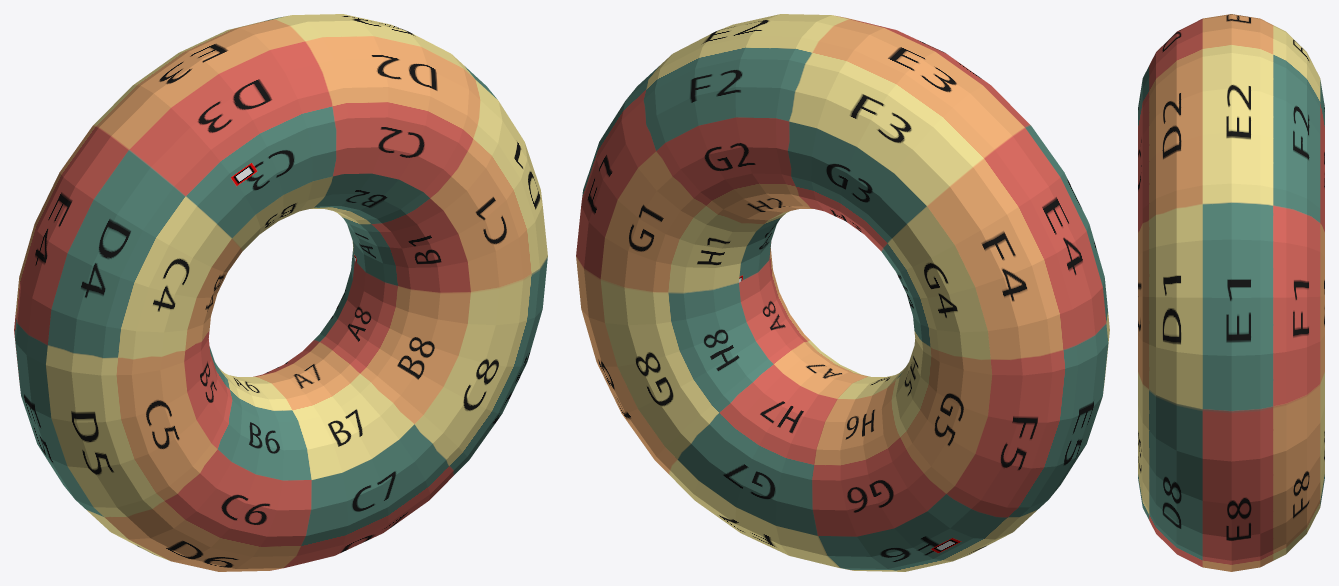
3 views of the same model, side by side, from view 1: azimuth 30°, elevation 25°; view 2: azimuth 150°, elevation 25°; view 3: azimuth 270°, elevation 25° (orthographic). The views are drawn at different scales.
Parts seen in each view (by area): view 1: Node-Mesh; view 2: Node-Mesh; view 3: Node-Mesh.
Boxes of the visible parts, x1,y1,x2,y2 form: Node-Mesh: (14,14,547,571); Node-Mesh: (576,14,1109,571); Node-Mesh: (1138,14,1324,571).
Size of the model in its own units: 3 by 2.98 by 1.
Materials: 1 (1 with a texture image).
